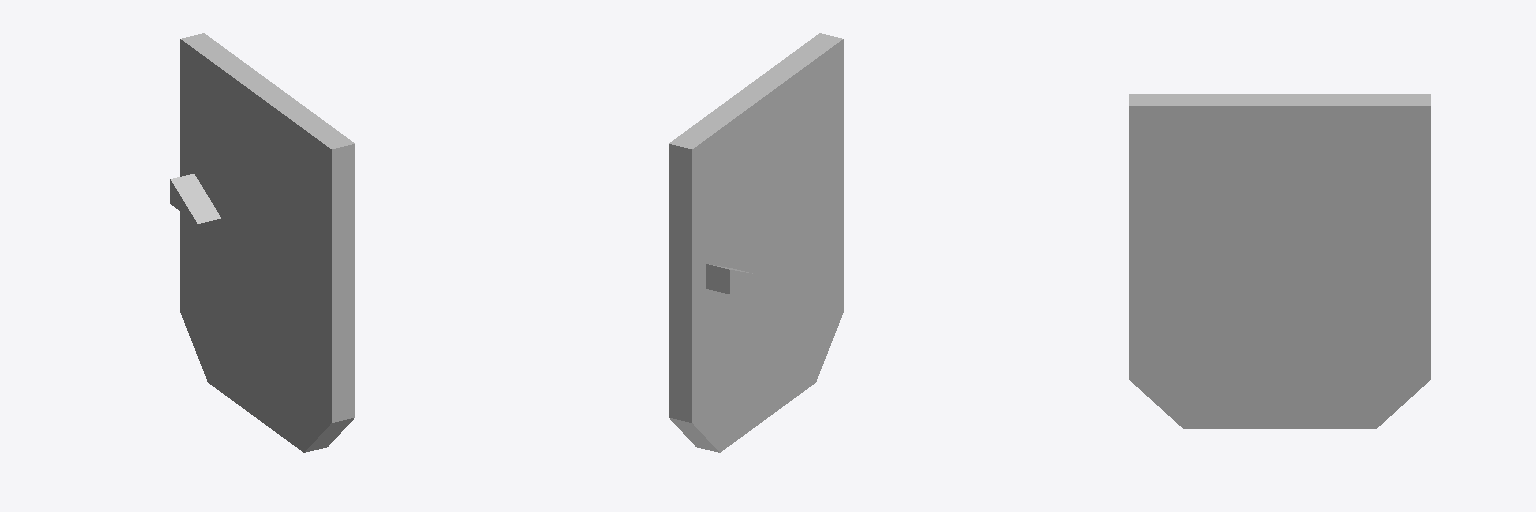
The model's file is modeltdoor.obj.
3 renders of one model, left to right at view 1: azimuth 30°, elevation 25°; view 2: azimuth 150°, elevation 25°; view 3: azimuth 270°, elevation 25°, orthographic.
Parts seen in each view (by area): view 1: modeltdoor; view 2: modeltdoor; view 3: modeltdoor.
Boxes of the visible parts, <box> form: modeltdoor: <box>170,33,354,452</box>; modeltdoor: <box>669,33,843,452</box>; modeltdoor: <box>1129,94,1430,428</box>.
Size of the model in its own units: 0.125 by 0.8125 by 0.6875.